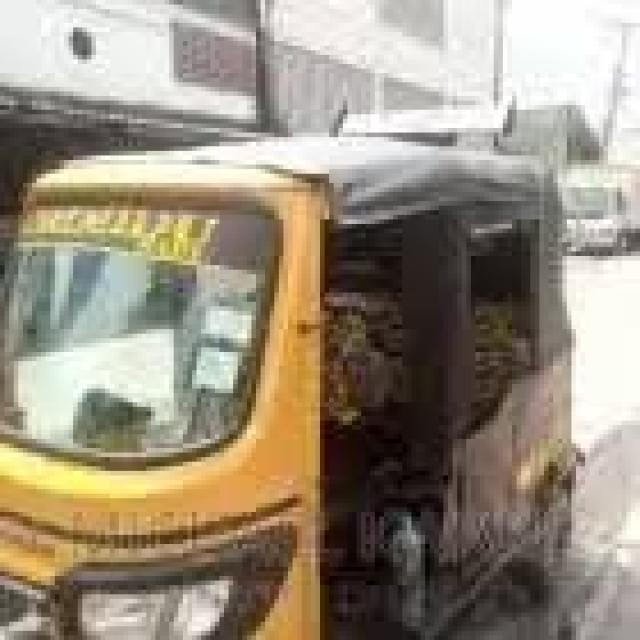tuktuk: (0, 96, 599, 640)
